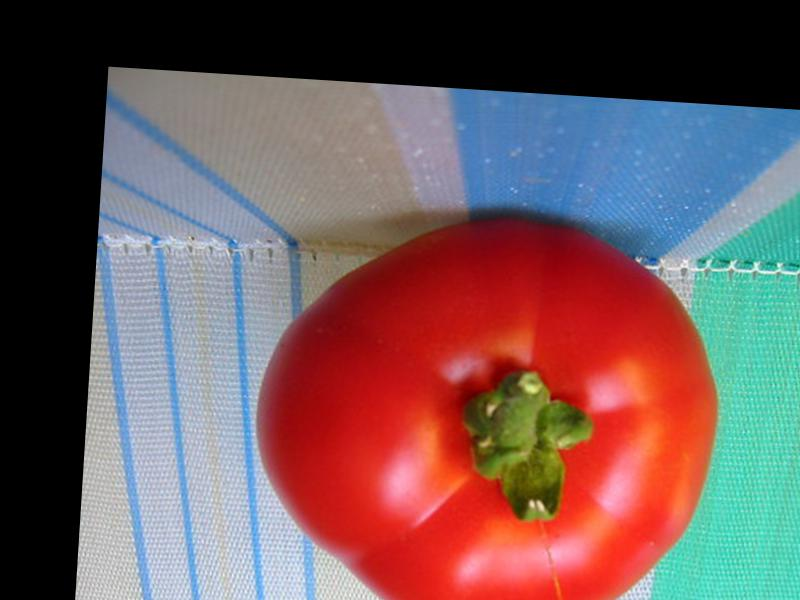Tomato: (247, 201, 728, 600)
